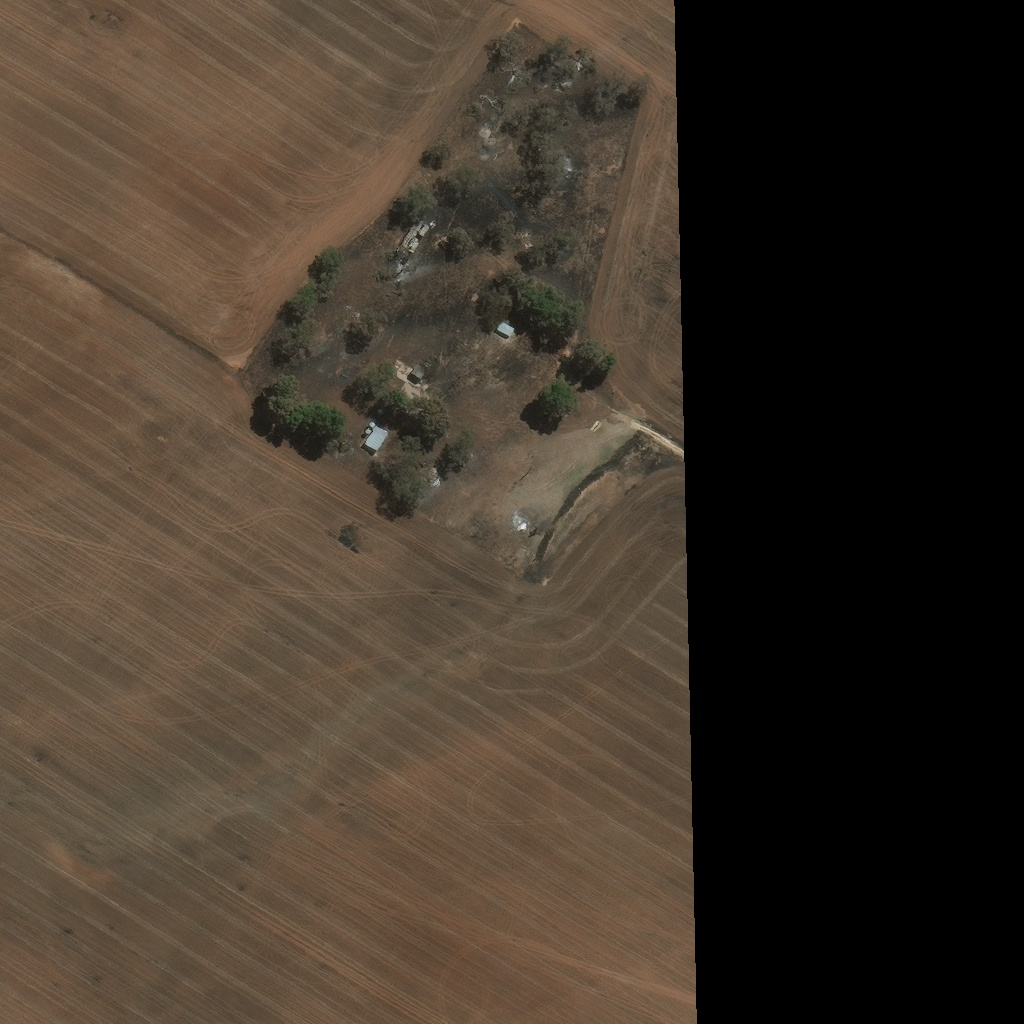0 no-damage: (368, 430, 395, 459), (497, 326, 519, 344), (372, 429, 378, 435), (369, 436, 374, 442)
3 destroyed: (394, 363, 432, 390)
